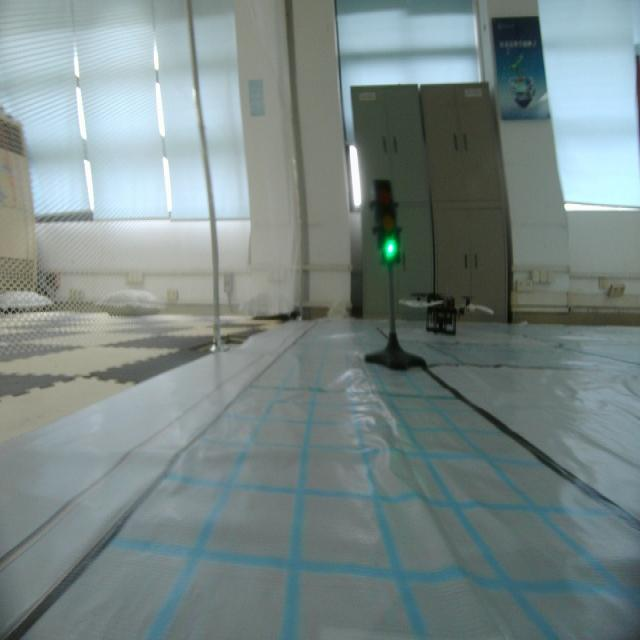green: (368, 175, 406, 270)
